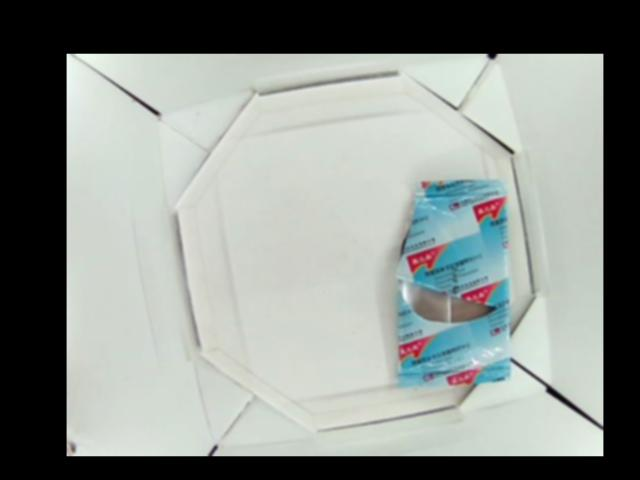Medicine: (397, 179, 508, 390)
